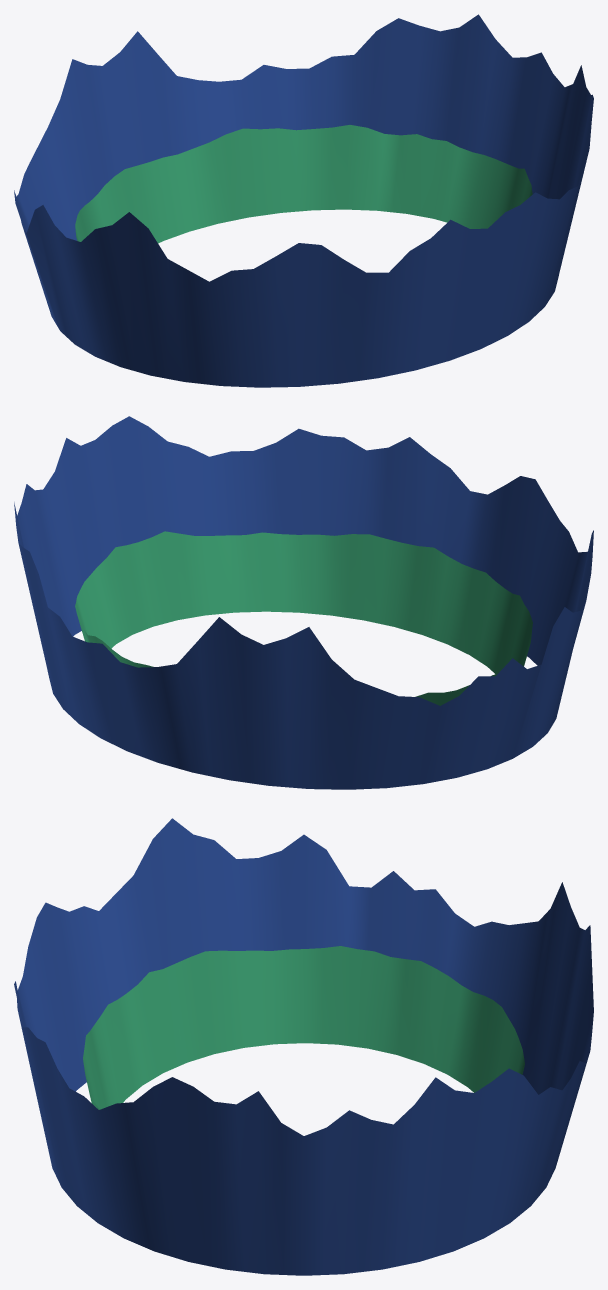
File: hills.fbx
3 views of the same model, one above another, from view 1: azimuth 30°, elevation 25°; view 2: azimuth 150°, elevation 25°; view 3: azimuth 270°, elevation 25° (orthographic). The views are drawn at different scales.
Parts seen in each view (by area): view 1: pCylinder2; view 2: pCylinder2; view 3: pCylinder2.
Boxes of the visible parts, x1=… form: pCylinder2: x1=14, y1=14, x2=593, y2=387; pCylinder2: x1=14, y1=416, x2=593, y2=789; pCylinder2: x1=14, y1=818, x2=593, y2=1275.
Bounding box in the file's own units: 34.89 × 11.24 × 29.44.
